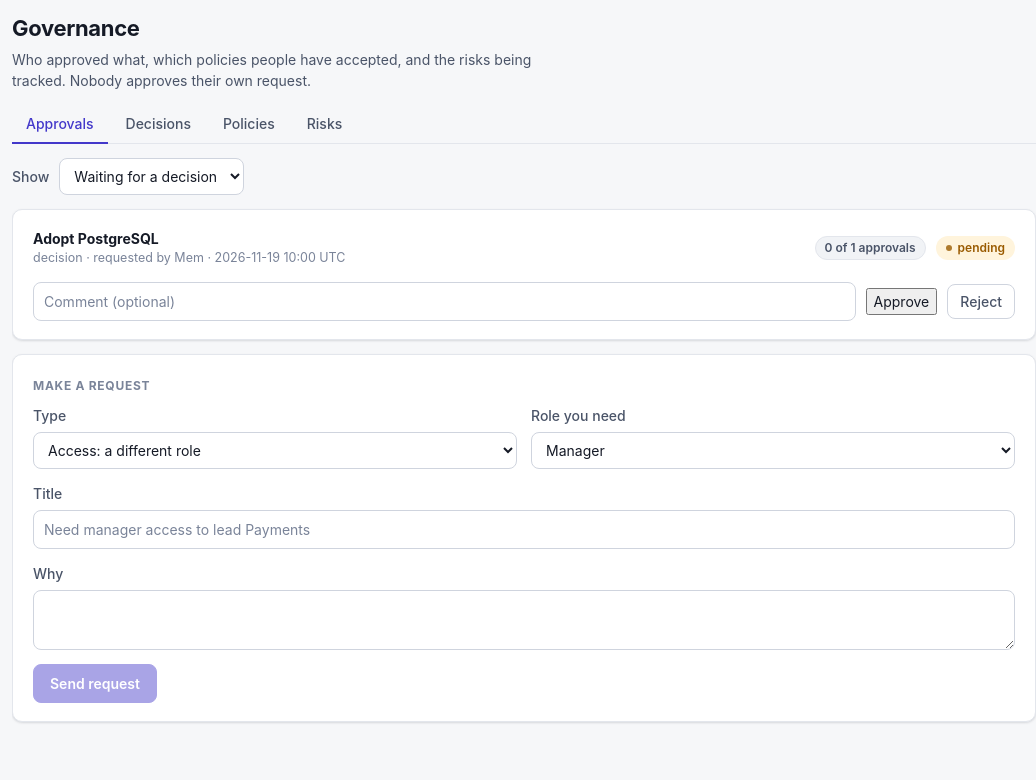
Scenario: GovernancePage › shows the reason the database gave when a vote is refused
Click the button "Approve" at (901, 301), box top-left (866, 288), bottom-right (937, 315)
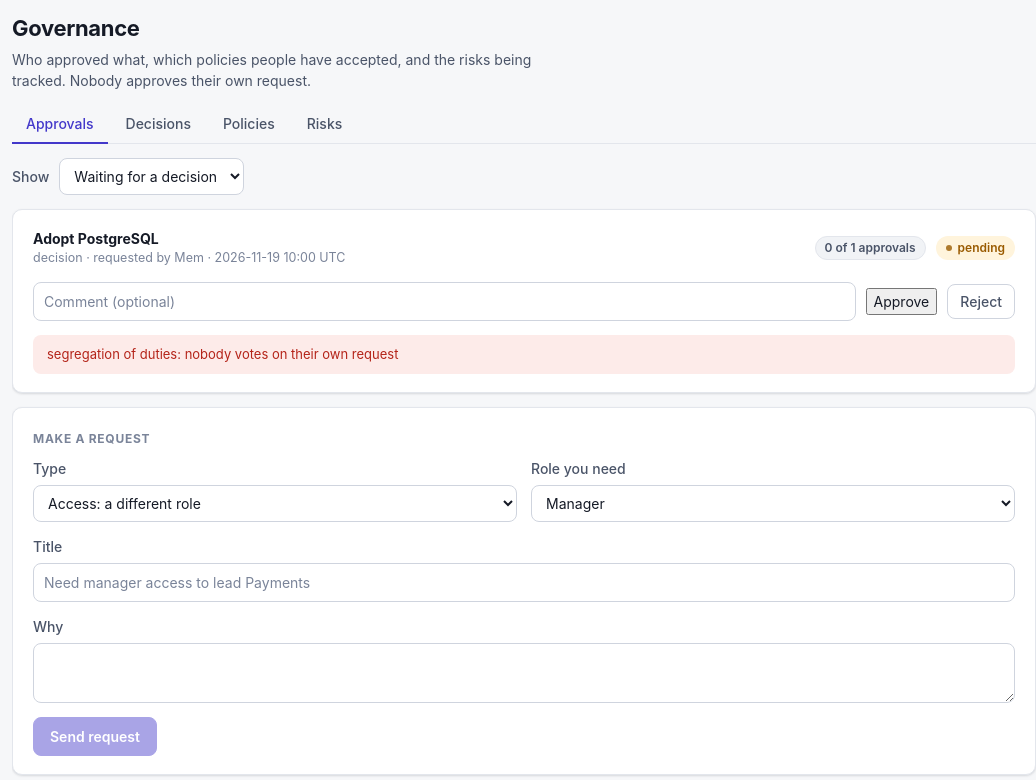
Check: the message shows "segregation of duties", box top-left (47, 346), bottom-right (398, 362)
